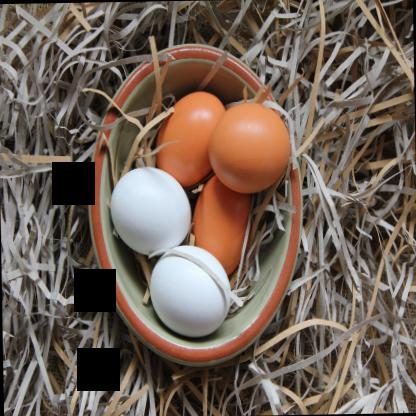egg: (149, 246, 234, 340), (207, 100, 290, 194), (110, 169, 192, 254), (155, 92, 225, 186), (193, 175, 254, 278)
